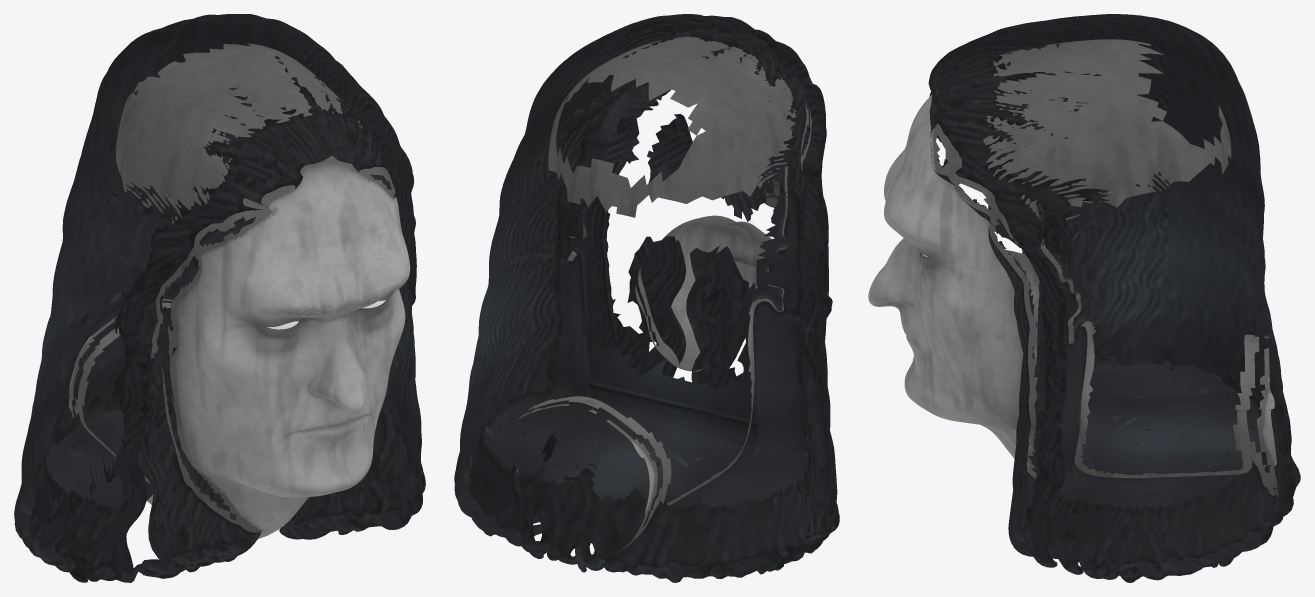
Rendered from faust_head.f3c3c979.glb.
3 renders of one model, left to right at view 1: azimuth 30°, elevation 25°; view 2: azimuth 150°, elevation 25°; view 3: azimuth 270°, elevation 25°, orthographic. The views are drawn at different scales.
Parts seen in each view (by area): view 1: lod0; view 2: lod0; view 3: lod0.
Boxes of the visible parts, <box> form: lod0: <box>14,14,425,582</box>; lod0: <box>454,14,839,582</box>; lod0: <box>868,14,1300,582</box>.
Size of what is drawn, in the model's own units: 1150 by 1489 by 1206.
1 material, 1 textured.
